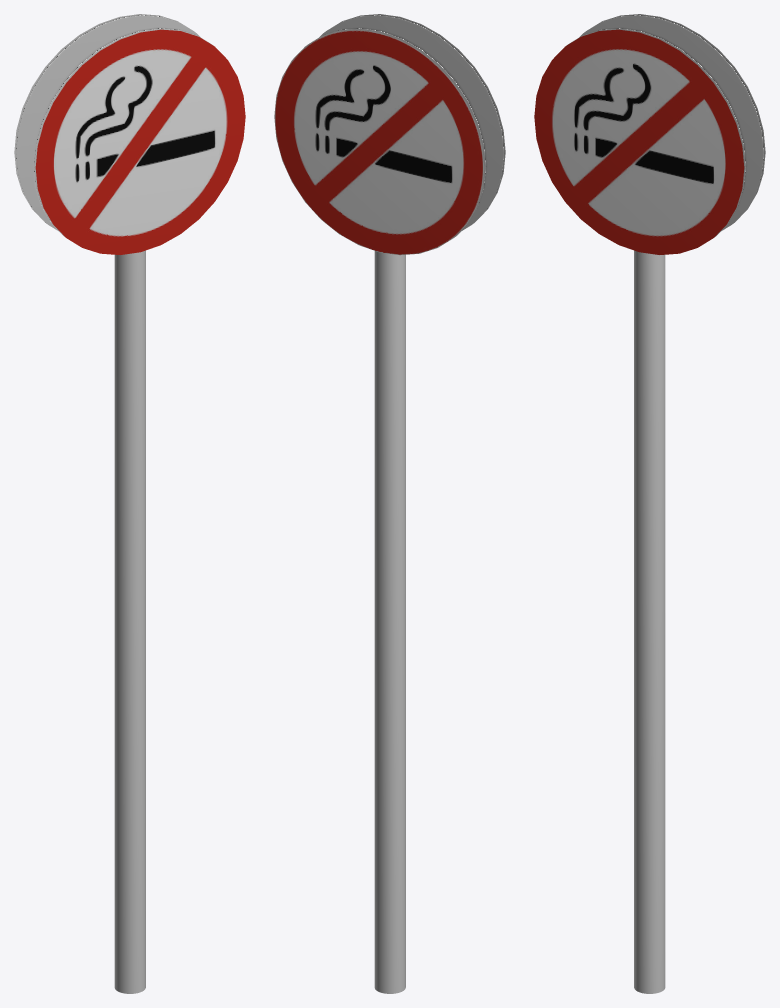
The model's file is 警示牌1.gltf.
The picture shows the model from 3 angles, left to right: view 1: azimuth 30°, elevation 25°; view 2: azimuth 150°, elevation 25°; view 3: azimuth 330°, elevation 25°; orthographic projection.
Parts seen in each view (by area): view 1: 柱体.002, 柱体, 柱体.001; view 2: 柱体.001, 柱体, 柱体.002; view 3: 柱体.002, 柱体, 柱体.001.
Part boxes in pixels (x1,y1,x2,y2): 柱体.002: (32, 27, 245, 254); 柱体: (114, 250, 145, 993); 柱体.001: (14, 14, 200, 230); 柱体.001: (274, 27, 487, 255); 柱体: (374, 251, 405, 993); 柱体.002: (319, 14, 505, 230); 柱体.002: (534, 27, 747, 254); 柱体: (634, 250, 665, 993); 柱体.001: (579, 14, 765, 230).
Size of the model in its own units: 0.5232 by 2.29 by 0.092.
1 material, 1 textured.
